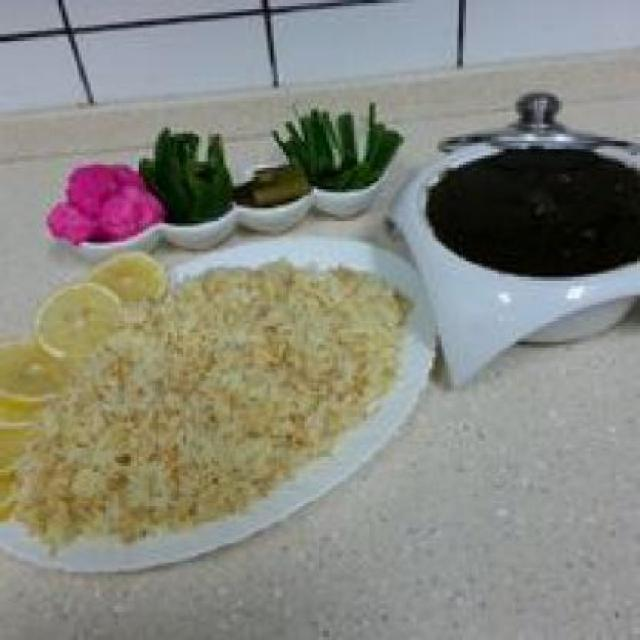fried rice: (3, 255, 417, 556)
